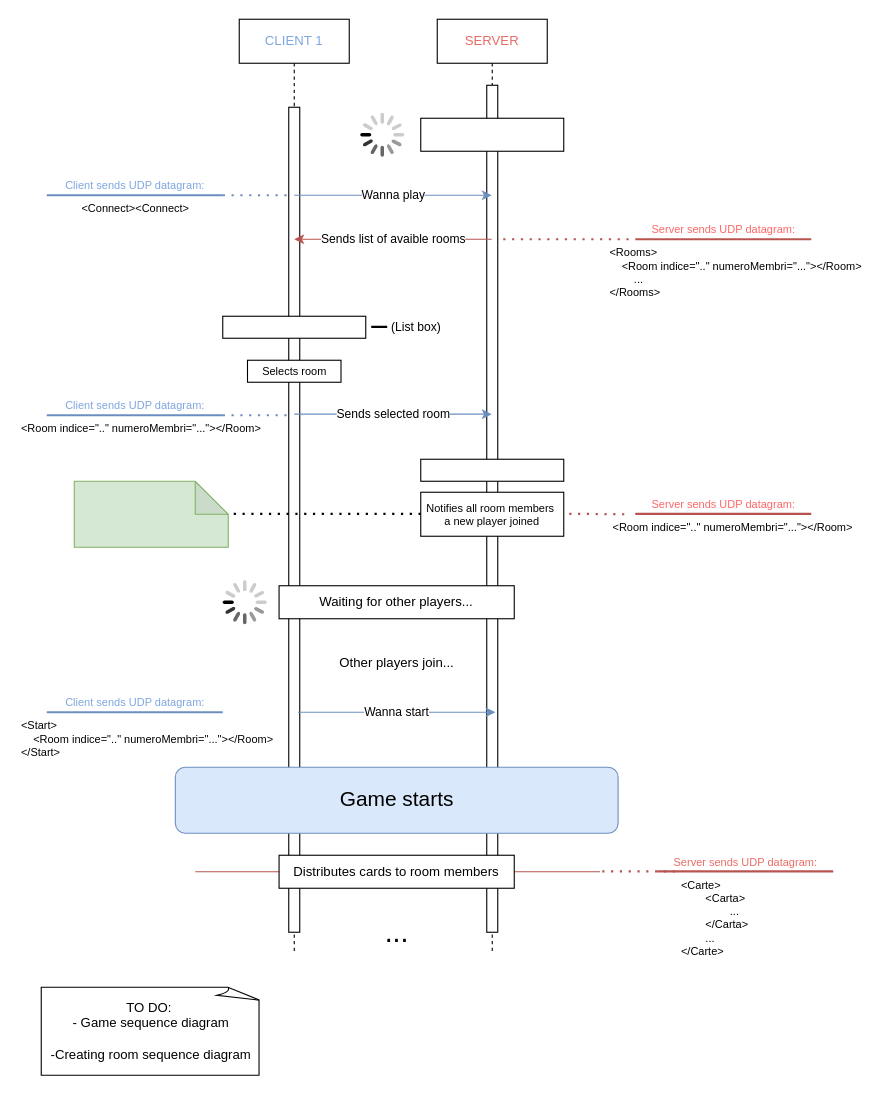
This 881x1095 diagram has some shape labels left out. The shapes that lost their labels are listed below. From the top down, each one's centre as x and y in pixels, then its label:
the point at 492,134: Waiting for players...
the point at 294,326: Renders rooms on GUI
the point at 492,469: Adds player to room
the point at 150,513: Players will refresh room member counters
